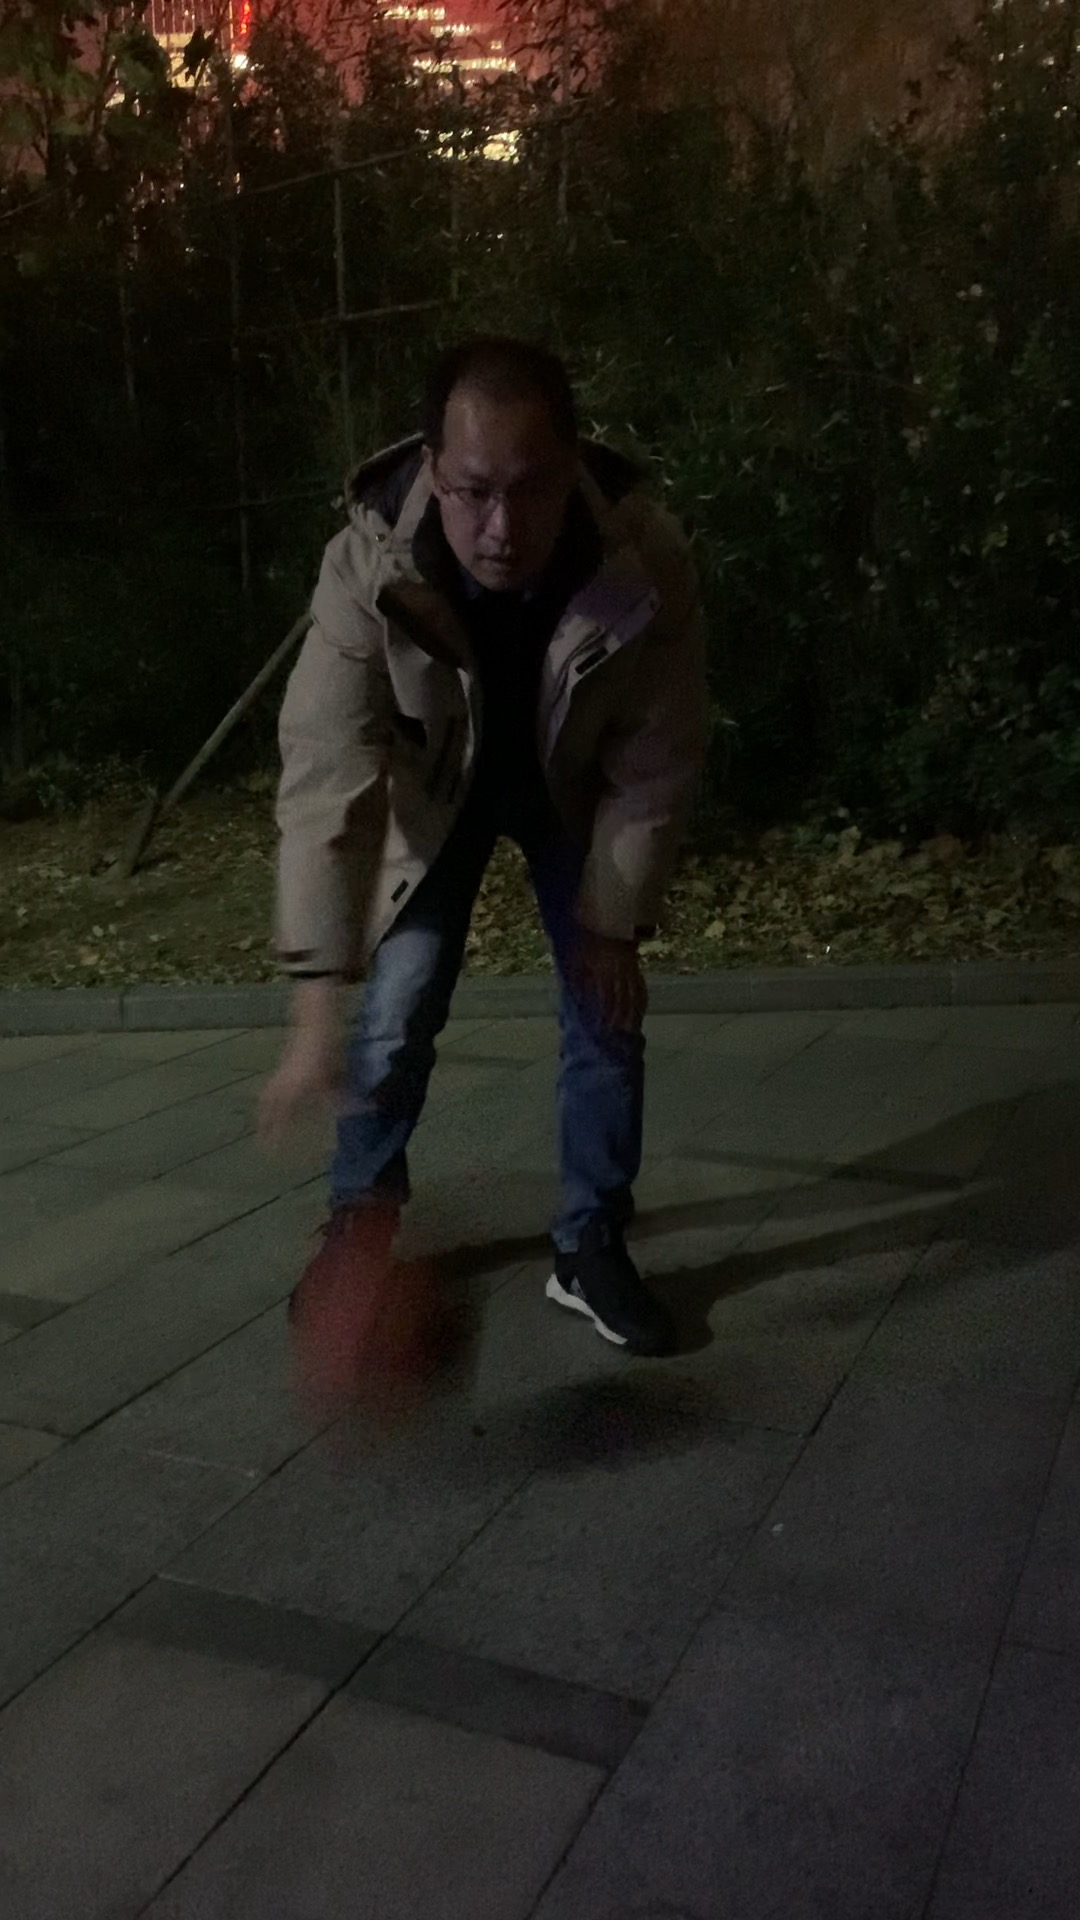ball: (299, 1245, 491, 1435)
